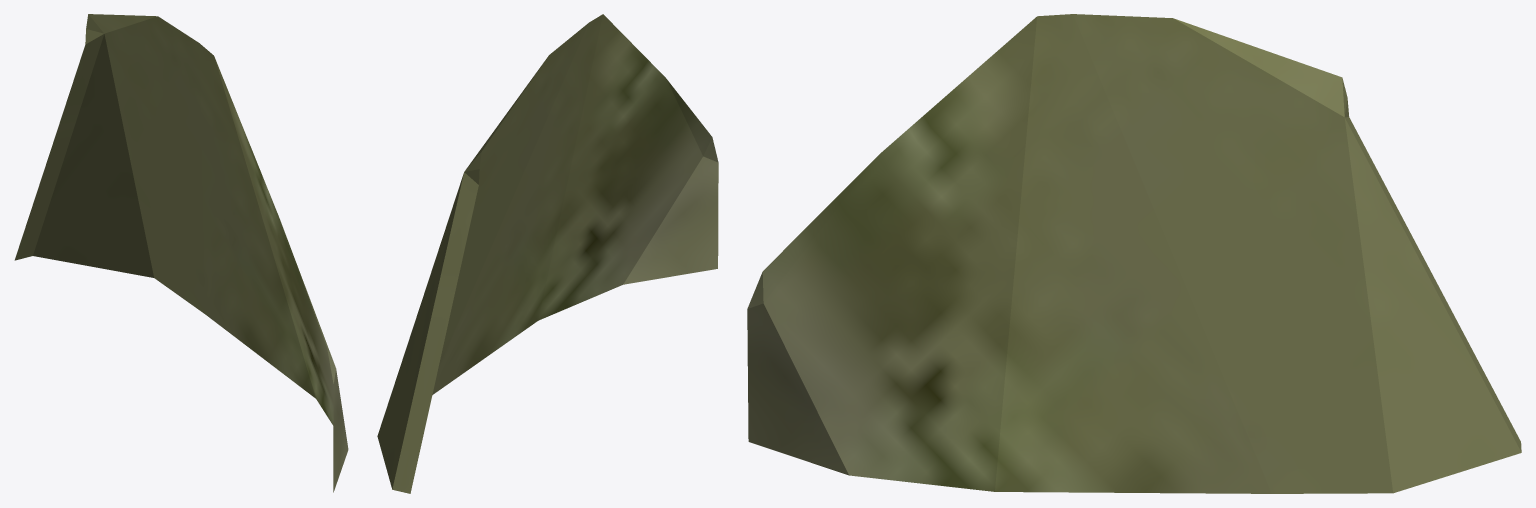
The picture shows the model from 3 angles, left to right: view 1: azimuth 30°, elevation 25°; view 2: azimuth 150°, elevation 25°; view 3: azimuth 270°, elevation 25°; orthographic projection. The views are drawn at different scales.
Bounding box in the file's own units: 0.0678 × 0.2597 × 0.4259.
Materials: 1 (1 with a texture image).
